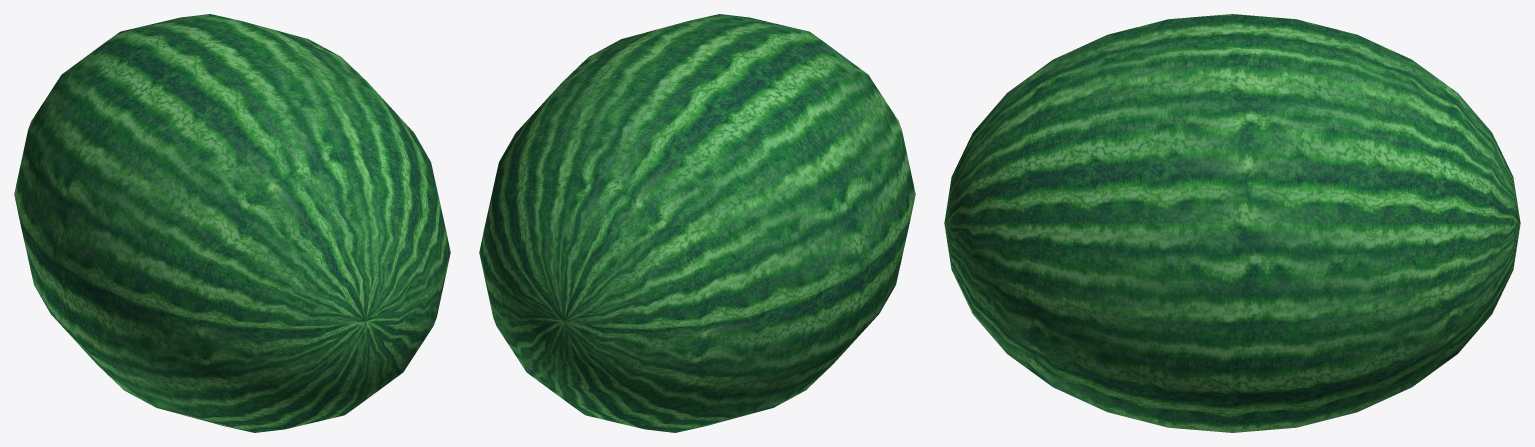
The model's file is watermelon.fbx.
The picture shows the model from 3 angles, left to right: view 1: azimuth 30°, elevation 25°; view 2: azimuth 150°, elevation 25°; view 3: azimuth 270°, elevation 25°; orthographic projection. The views are drawn at different scales.
Visible parts, largest first — view 1: Watermelon; view 2: Watermelon; view 3: Watermelon.
Part boxes in pixels (bbox=[...]): Watermelon: bbox=[14, 14, 450, 432]; Watermelon: bbox=[479, 14, 915, 432]; Watermelon: bbox=[944, 14, 1520, 432].
Bounding box in the file's own units: 21.36 × 20.87 × 28.67.
